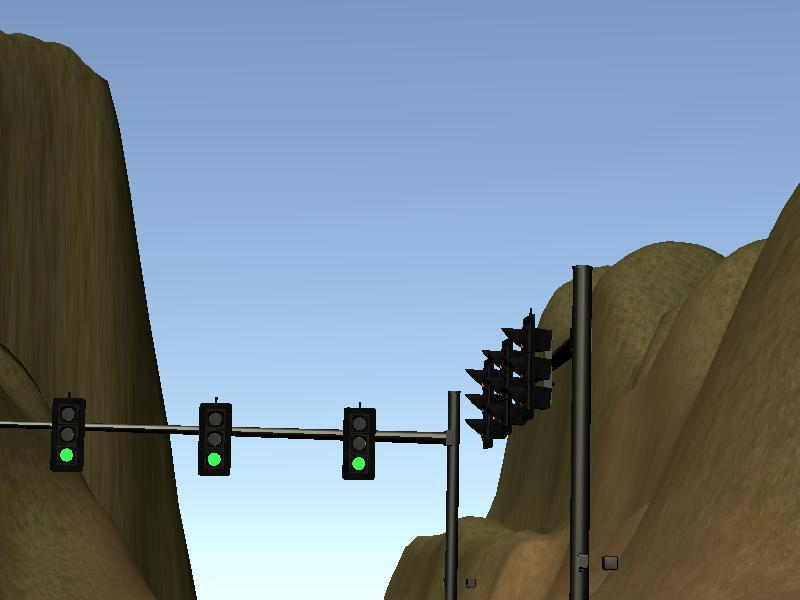Green: (51, 398, 84, 474), (342, 407, 375, 483), (199, 401, 232, 477)
